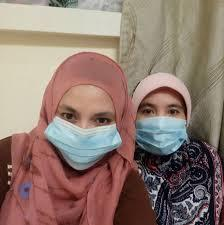Wearing Mask: (42, 43, 127, 175), (122, 58, 201, 181)
